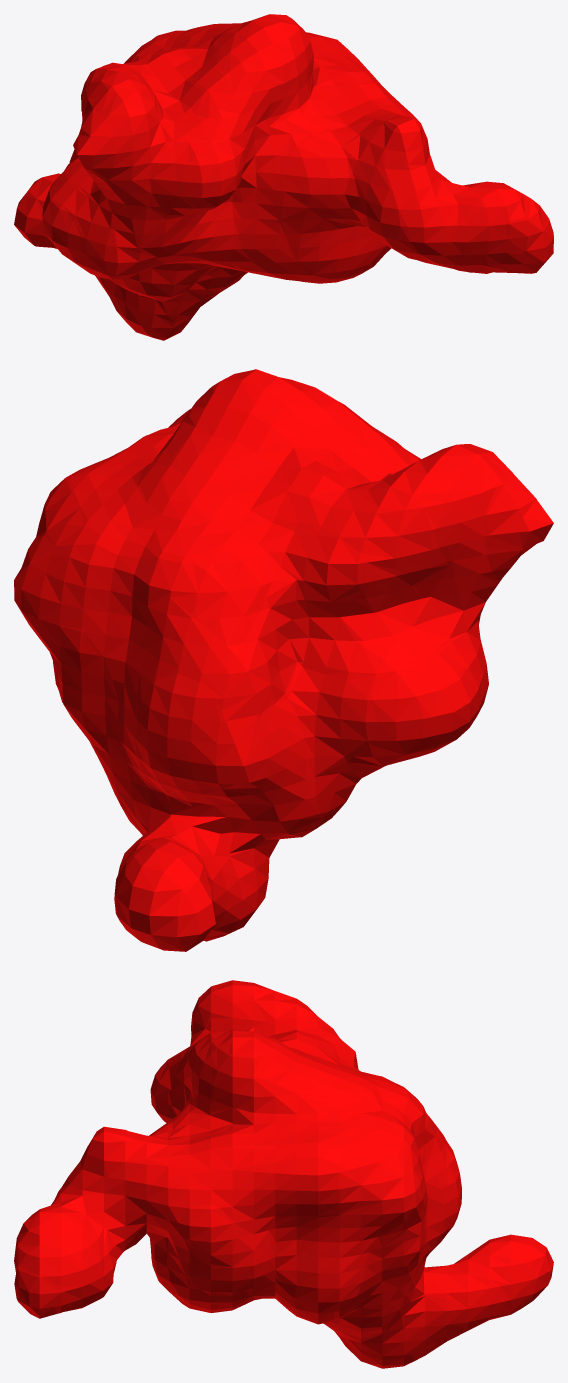
Rendered from yagU_coarse.dae.
3 views of the same model, one above another, from view 1: azimuth 30°, elevation 25°; view 2: azimuth 150°, elevation 25°; view 3: azimuth 270°, elevation 25° (orthographic). The views are drawn at different scales.
Parts seen in each view (by area): view 1: yagU; view 2: yagU; view 3: yagU.
Boxes of the visible parts, x1,y1,x2,y2 form: yagU: (14,14,553,340); yagU: (14,369,553,951); yagU: (14,980,553,1368).
Bounding box in the file's own units: 57.14 × 50.62 × 70.93.
